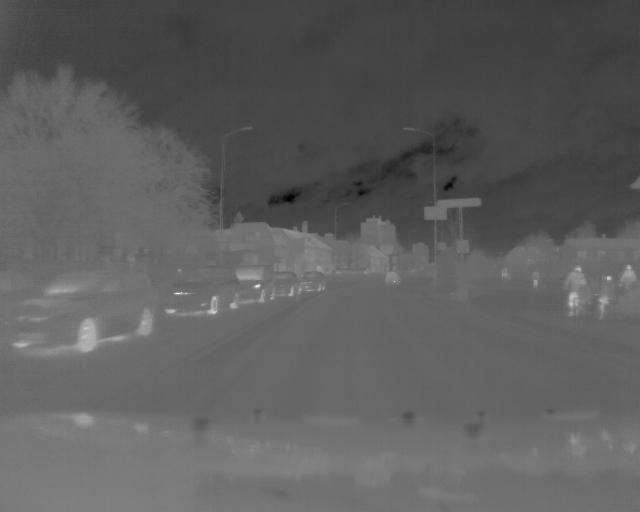car: (10, 270, 157, 352), (162, 266, 241, 320), (241, 263, 277, 302), (301, 267, 330, 293)
person: (562, 260, 590, 320), (596, 268, 616, 321), (618, 260, 640, 291), (385, 270, 403, 285), (532, 266, 542, 291)
